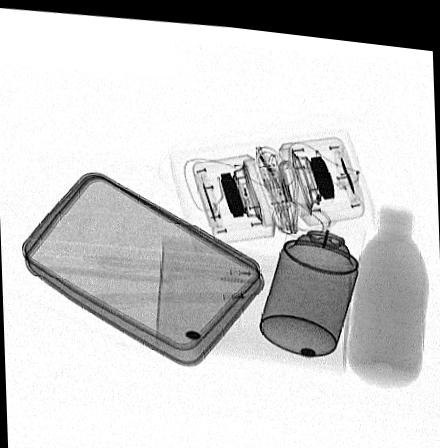Sprayer: (258, 200, 366, 348)
